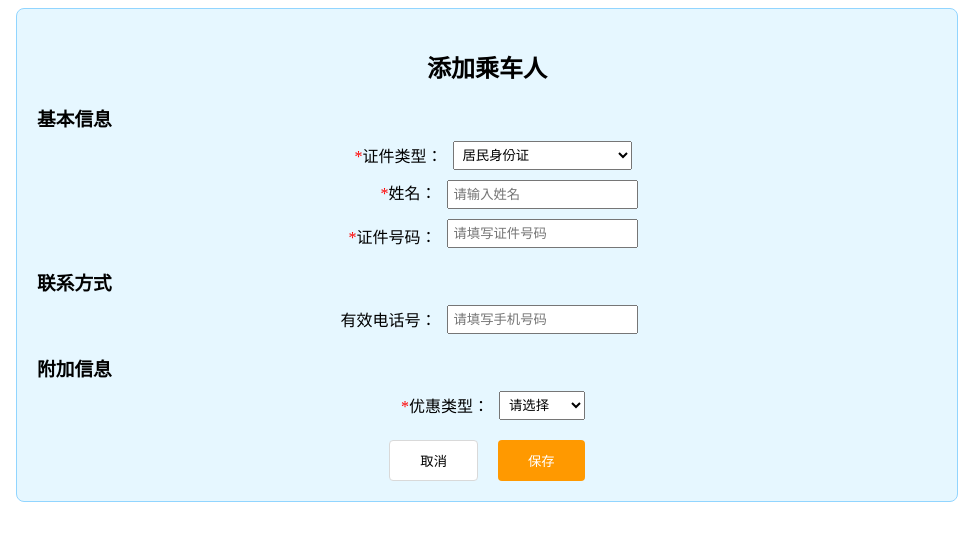
PassengerForm Validation Requirements › Shows "该乘车人已存在" when server returns passenger exists error
The image size is (975, 542).
Select "居民身份证" in the dropdown labelled "*证件类型：" at (542, 155), box [452,141,632,170]
Type "110101199001011234" into the field labelled "*证件号码：" at (542, 233), box [446,219,638,248]
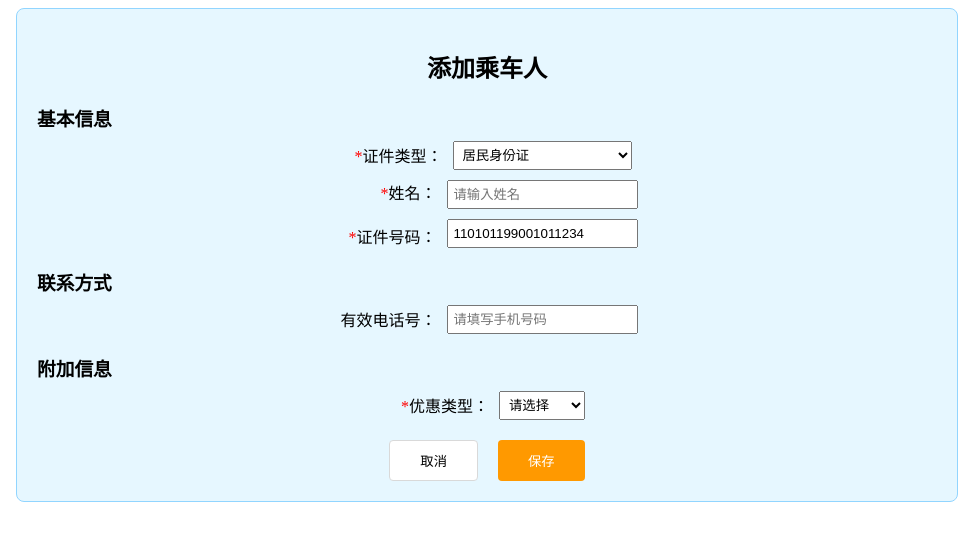
Type "CorrectName" into the field labelled "*姓名：" at (542, 194), box [446,180,638,209]
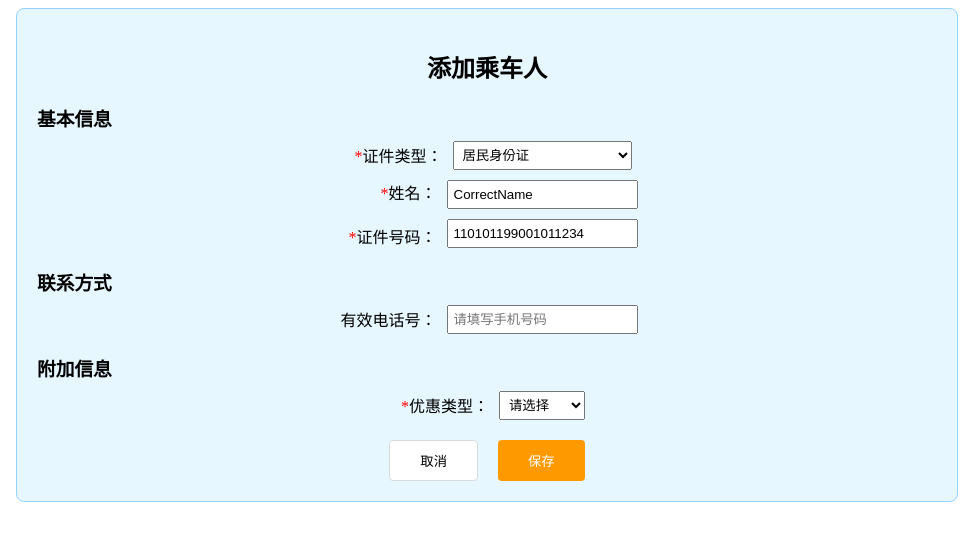
Click the button "保存" at (541, 460), box [498,440,585,481]
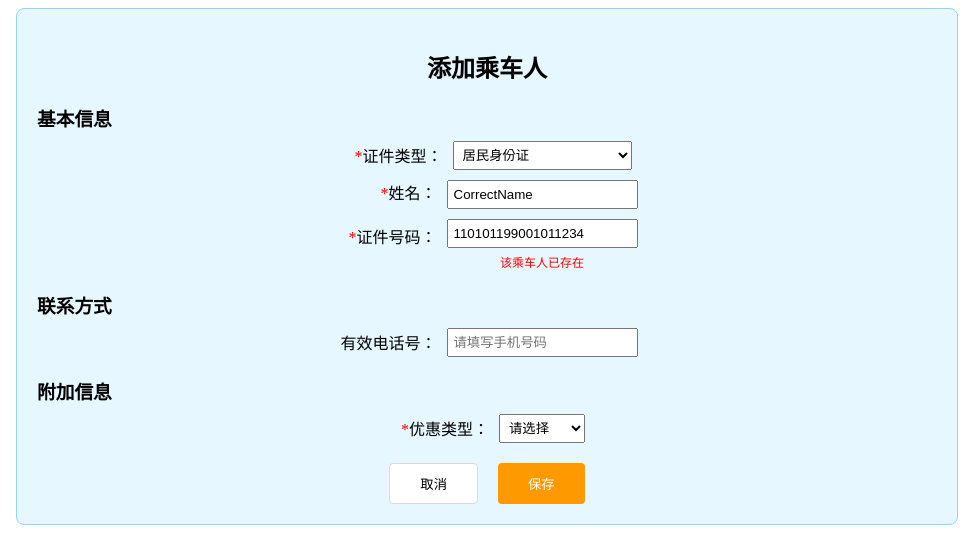
Expected: the text "该乘车人已存在" is shown, [500,256,584,270]
